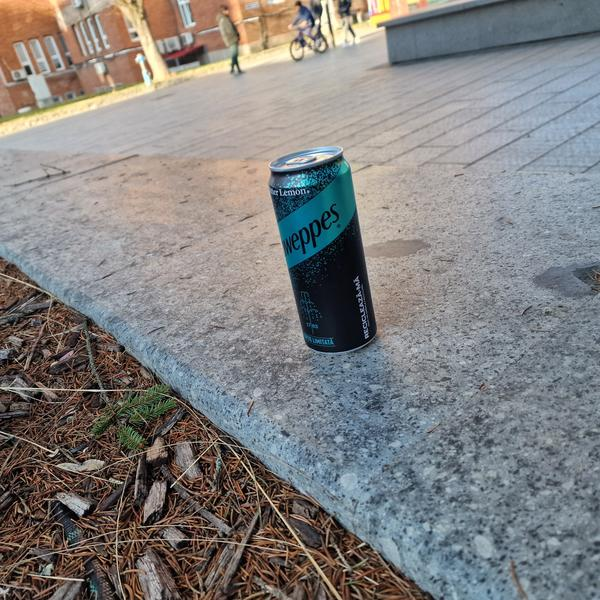can: (262, 139, 392, 365)
